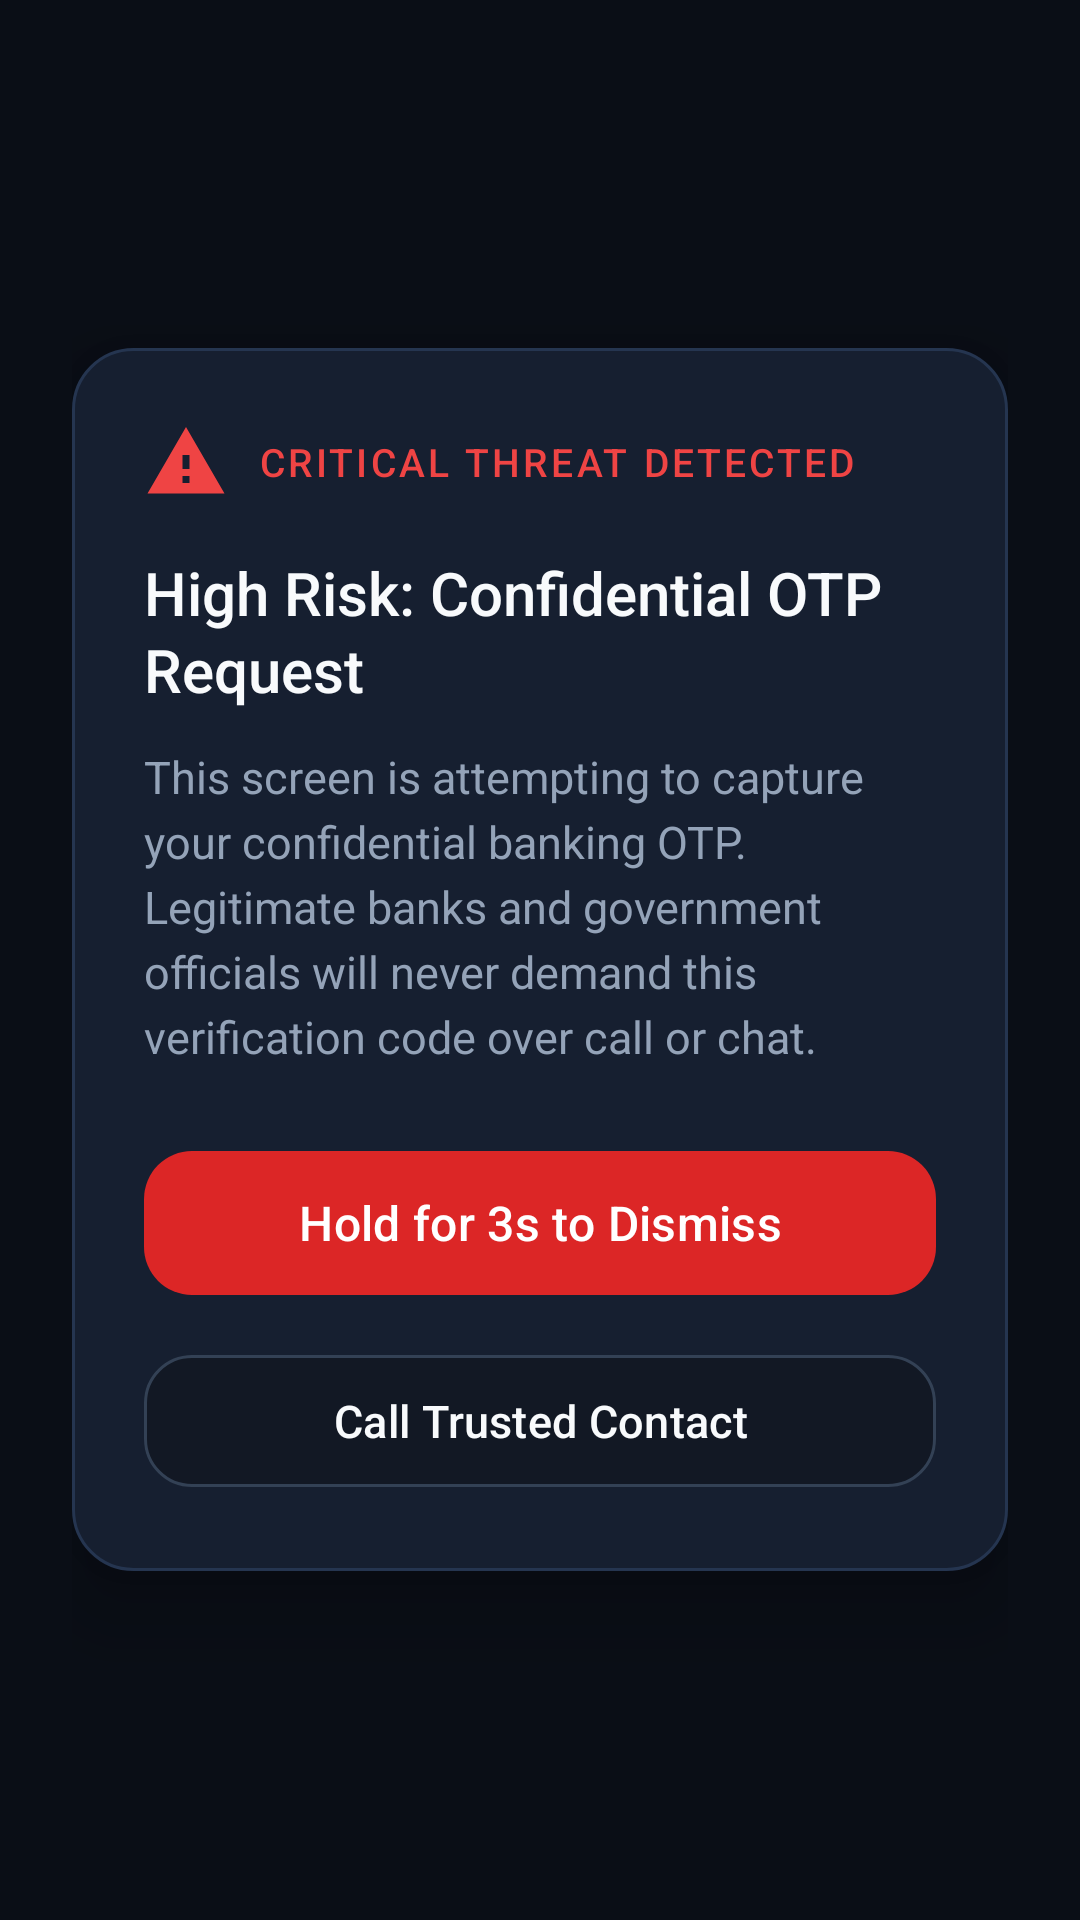

Screen size 1080*1920. Icon name, then its center in pixels as (x,y):
Warning: (186,460)
